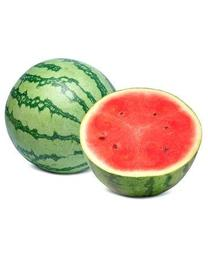watermelon: (80, 87, 202, 200), (5, 58, 118, 175)
